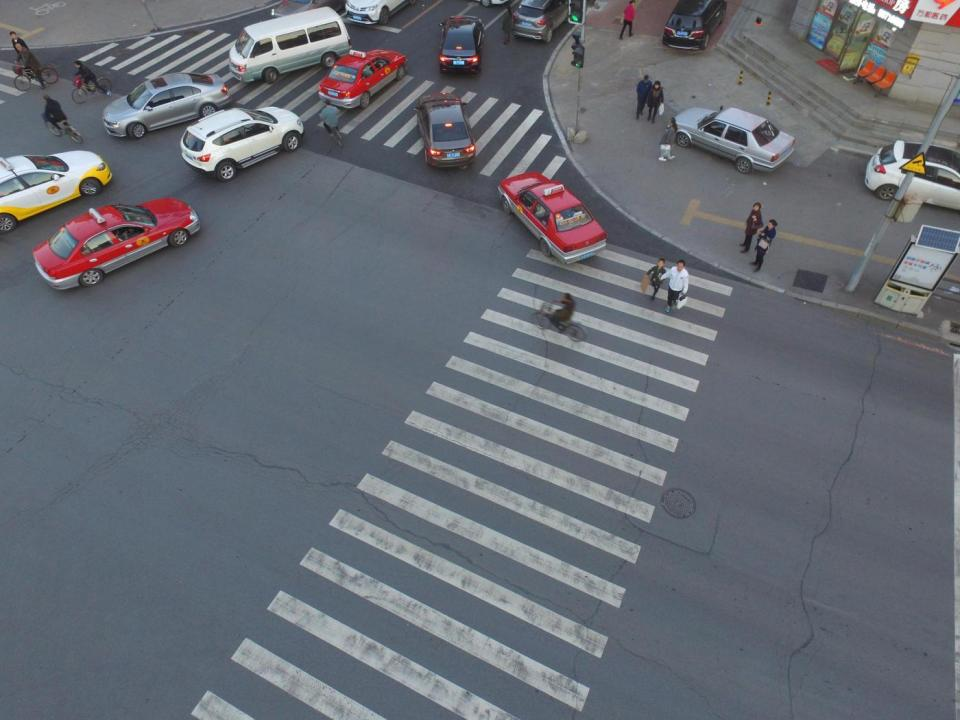car: (34, 197, 200, 290), (496, 168, 607, 263), (0, 147, 112, 234), (178, 105, 306, 180), (667, 102, 798, 174), (101, 71, 232, 140), (866, 137, 960, 215), (317, 45, 406, 109), (412, 92, 478, 169), (659, 1, 732, 53), (437, 10, 489, 78), (507, 0, 577, 43)
van: (227, 5, 354, 82)
